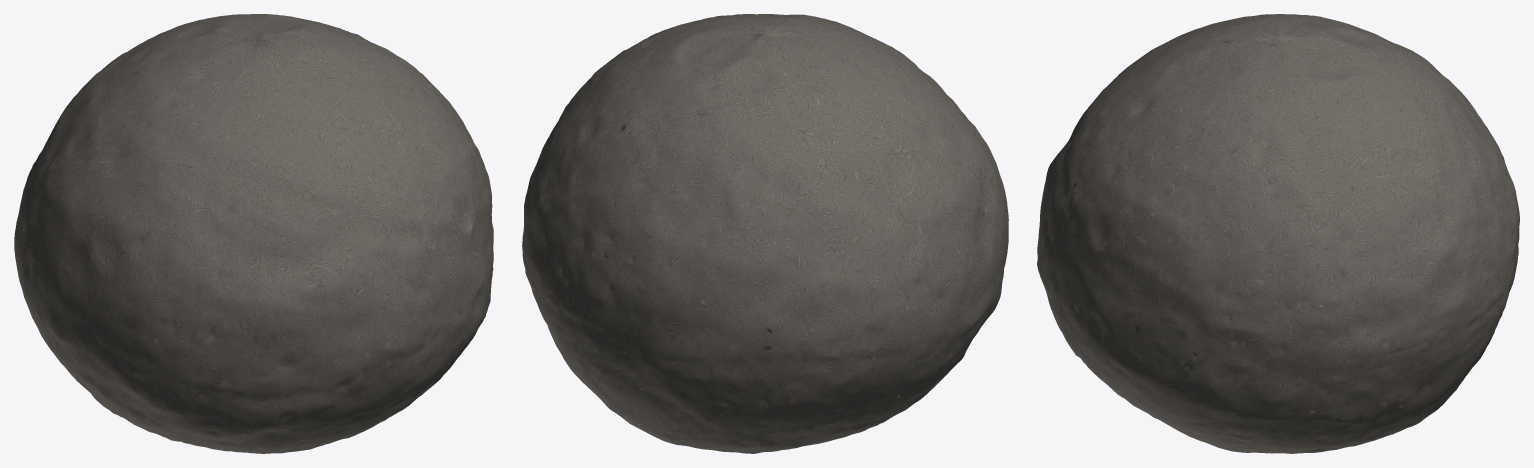
Rendered from vesta.glb.
The picture shows the model from 3 angles, left to right: view 1: azimuth 30°, elevation 25°; view 2: azimuth 150°, elevation 25°; view 3: azimuth 270°, elevation 25°; orthographic projection.
Visible parts, largest first — view 1: Asteroid 4 Vesta (A); view 2: Asteroid 4 Vesta (A); view 3: Asteroid 4 Vesta (A).
Part boxes in pixels (box(x1,y1,x2,y2)): Asteroid 4 Vesta (A): box(14, 14, 493, 453); Asteroid 4 Vesta (A): box(522, 14, 1008, 453); Asteroid 4 Vesta (A): box(1037, 14, 1519, 453).
Size of the model in its own units: 567220 by 515028 by 569305.
Materials: 1 (1 with a texture image).
